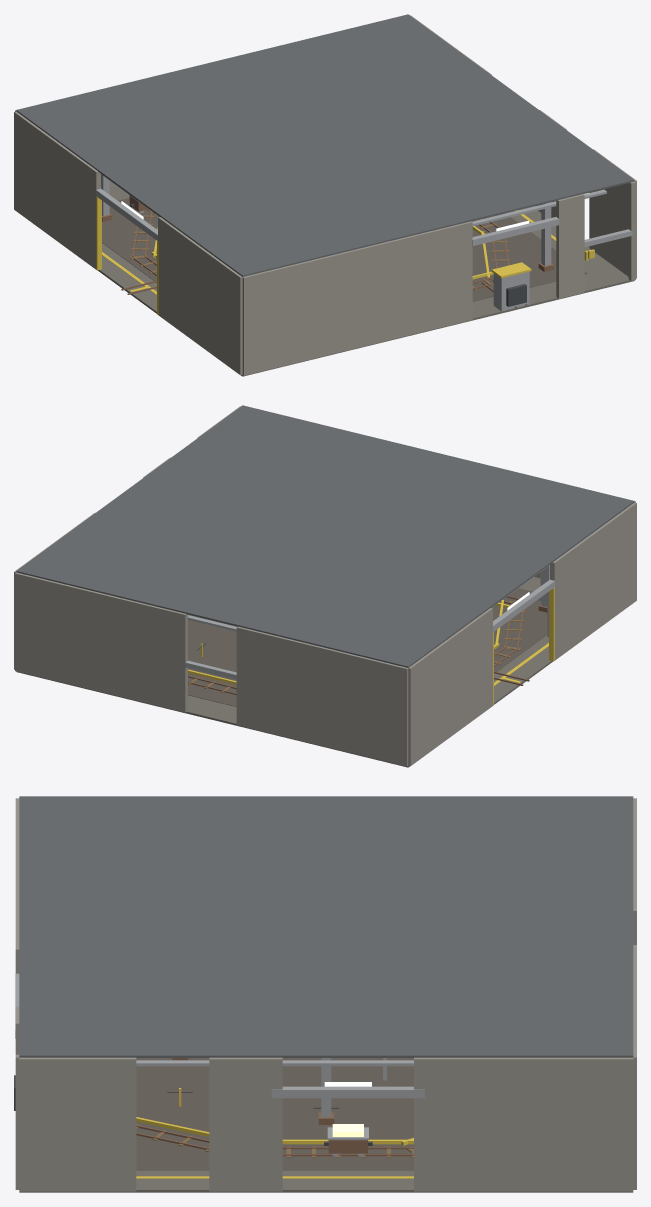
The model's file is haulage.glb.
3 renders of one model, top to bottom at view 1: azimuth 30°, elevation 25°; view 2: azimuth 150°, elevation 25°; view 3: azimuth 270°, elevation 25°, orthographic. The views are drawn at different scales.
Visible parts, largest first — view 1: HaulCeil, NorthW, WestS, WestN, TrackPad, HaulFloor, NorthMid, EastS, DumpChute, CrushLintel, NorthE, AditLintel (+2 smaller); view 2: HaulCeil, SouthW, SouthE, WestN, WestS, TrackPad, HaulFloor, AditLintel; view 3: HaulCeil, EastN, TrackPad, EastS, EastMid, HaulFloor, DiagLintel, TrayE, SouthE, NorthW, NorthE, StripeE (+2 smaller).
Part boxes in pixels (<box>): HaulCeil: <box>16,14,634,276</box>; NorthW: <box>242,221,472,375</box>; WestS: <box>158,217,242,375</box>; WestN: <box>14,111,100,269</box>; TrackPad: <box>102,198,587,301</box>; HaulFloor: <box>98,186,634,376</box>; NorthMid: <box>556,194,584,298</box>; EastS: <box>589,149,636,278</box>; DumpChute: <box>493,271,529,311</box>; CrushLintel: <box>472,217,559,245</box>; NorthE: <box>628,181,635,280</box>; AditLintel: <box>96,188,157,240</box>; HaulCeil: <box>16,405,634,667</box>; SouthW: <box>236,626,408,766</box>; SouthE: <box>15,572,187,712</box>; WestN: <box>408,608,492,766</box>; WestS: <box>550,502,636,660</box>; TrackPad: <box>188,588,547,706</box>; HaulFloor: <box>16,577,552,767</box>; AditLintel: <box>493,579,554,631</box>; HaulCeil: <box>19,796,633,1057</box>; EastN: <box>414,1057,633,1191</box>; TrackPad: <box>136,1058,413,1170</box>; EastS: <box>19,1057,136,1191</box>; EastMid: <box>209,1057,282,1191</box>; HaulFloor: <box>19,1170,633,1192</box>; DiagLintel: <box>271,1086,424,1098</box>; TrayE: <box>136,1060,413,1066</box>; SouthE: <box>633,945,636,1189</box>; NorthW: <box>15,798,19,973</box>; NorthE: <box>15,1054,19,1189</box>; StripeE: <box>136,1176,413,1178</box>.
Size of the model in its own units: 34.22 by 8.28 by 34.1.
